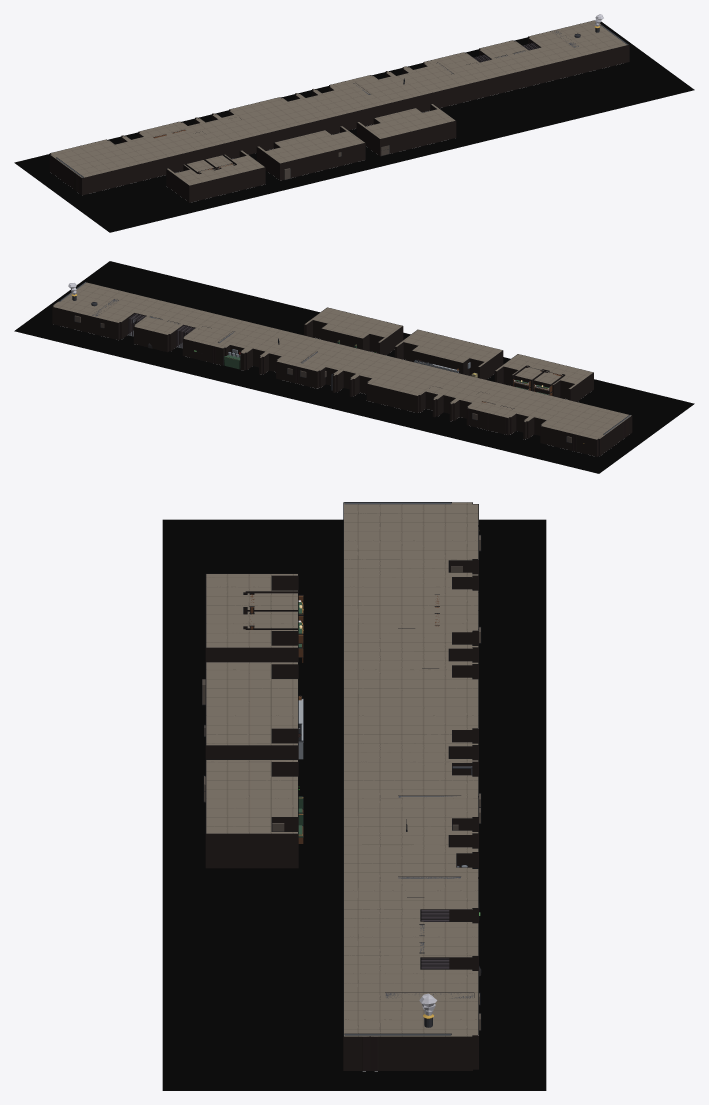
Rendered from train.glb.
The picture shows the model from 3 angles, top to bottom: view 1: azimuth 30°, elevation 25°; view 2: azimuth 150°, elevation 25°; view 3: azimuth 270°, elevation 25°; orthographic projection. The views are drawn at different scales.
Parts seen in each view (by area): view 1: decor, hullside, ceiling_platform, ceiling_dining, ceiling_luggage, ceiling_kitchen, ceiling_dome, ceiling_sleeper, ceiling_telegraph, ceiling_office, ceiling_generator, ceiling_tender (+5 smaller); view 2: decor, hullside, ceiling_platform, ceiling_dining, ceiling_luggage, ceiling_kitchen, ceiling_dome, train_interior_1, ceiling_sleeper, ceiling_telegraph, ceiling_office, ceiling_generator (+6 smaller); view 3: decor, hullside, ceiling_platform, ceiling_dining, ceiling_luggage, ceiling_kitchen, ceiling_dome, ceiling_sleeper, ceiling_telegraph, ceiling_office, ceiling_generator, ceiling_tender (+6 smaller).
Boxes of the visible parts, x1,y1,x2,y2 form: decor: (14, 22, 694, 232); hullside: (49, 37, 629, 202); ceiling_platform: (50, 39, 626, 177); ceiling_dining: (213, 93, 329, 135); ceiling_luggage: (122, 117, 229, 157); ceiling_kitchen: (257, 126, 364, 163); ceiling_dome: (357, 104, 455, 138); ceiling_sleeper: (167, 150, 264, 185); ceiling_telegraph: (313, 80, 419, 110); ceiling_office: (70, 139, 138, 171); ceiling_generator: (403, 59, 496, 88); ceiling_tender: (480, 40, 544, 70); decor: (14, 261, 694, 473); hullside: (52, 305, 632, 456); ceiling_platform: (80, 282, 631, 439); ceiling_dining: (350, 357, 466, 399); ceiling_luggage: (450, 382, 557, 421); ceiling_kitchen: (395, 329, 502, 366); ceiling_dome: (305, 307, 402, 342); train_interior_1: (58, 281, 630, 443); ceiling_sleeper: (495, 354, 592, 388); ceiling_telegraph: (273, 335, 366, 375); ceiling_office: (541, 404, 612, 434); ceiling_generator: (203, 316, 276, 353); decor: (162, 519, 546, 1090); hullside: (205, 559, 478, 1070); ceiling_platform: (344, 502, 478, 1036); ceiling_dining: (362, 657, 478, 749); ceiling_luggage: (362, 569, 478, 652); ceiling_kitchen: (206, 662, 297, 745); ceiling_dome: (206, 760, 297, 833); ceiling_sleeper: (206, 574, 297, 647); ceiling_telegraph: (363, 756, 478, 837); ceiling_office: (362, 515, 478, 563); ceiling_generator: (362, 844, 478, 912); ceiling_tender: (363, 919, 478, 959).
Size of the model in its own units: 62 by 4.56 by 17.6.
637 materials, 635 textured.
